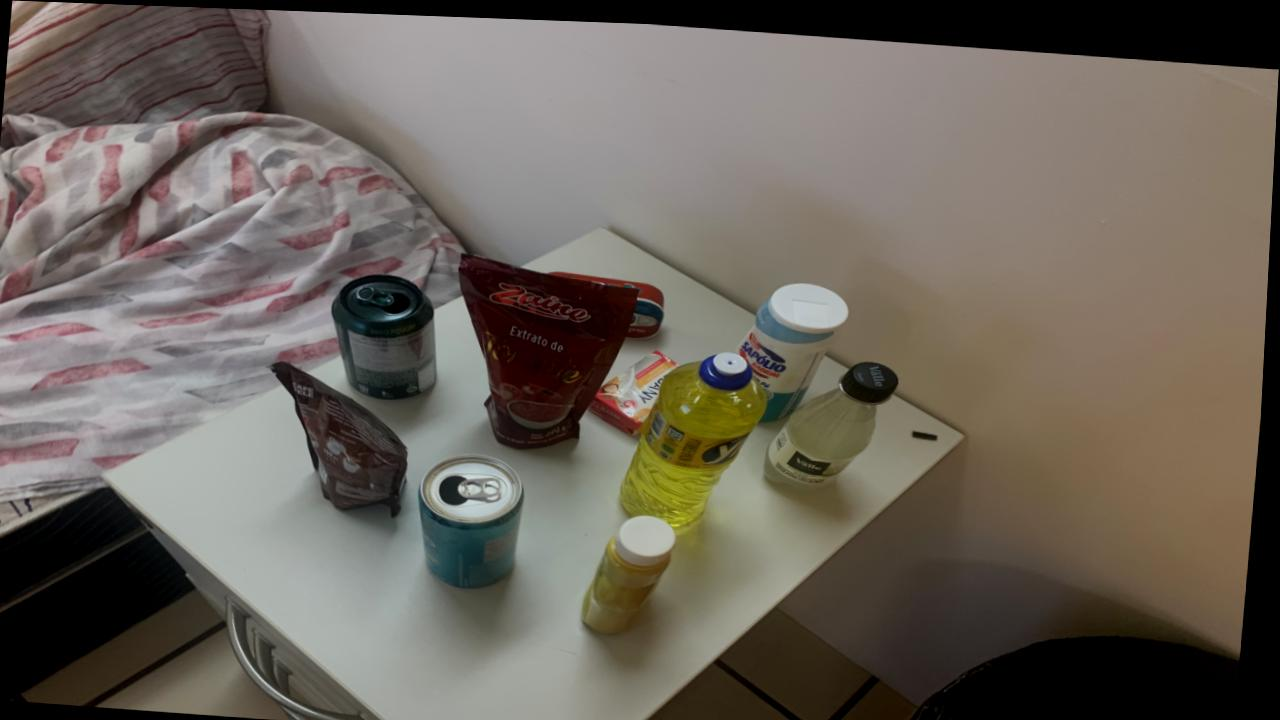Cleaner-Cleanup_Items: (741, 277, 852, 416)
Coffee-Pantry_Items: (275, 360, 412, 513)
Detergent-Cleanup_Items: (624, 347, 772, 521)
Guarana_Can-Drinks: (335, 271, 441, 396)
Mustard-Pantry_Items: (588, 510, 682, 629)
Soap-Cleanup_Items: (593, 347, 682, 428)
Soda-Drinks: (769, 355, 902, 480)
Tea-Drinks: (423, 450, 529, 584)
Tomato_Sauce-Pantry_Items: (463, 252, 640, 444)
Tuna_Can-Pantry_Items: (556, 267, 668, 333)
